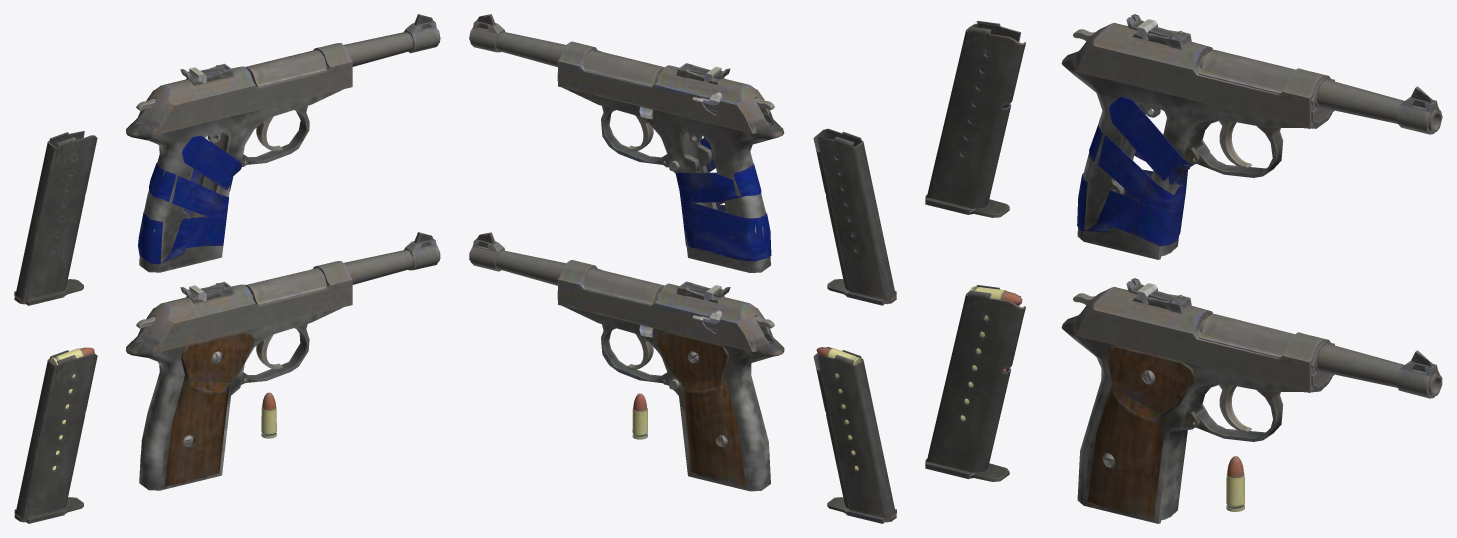
The model's file is service_pistol_lod1.glb.
3 views of the same model, side by side, from view 1: azimuth 30°, elevation 25°; view 2: azimuth 150°, elevation 25°; view 3: azimuth 330°, elevation 25° (orthographic). The views are drawn at different scales.
Parts seen in each view (by area): view 1: service_pistol_pistol_b, service_pistol_pistol_a, service_pistol_magazine_loaded, service_pistol_magazine_empty, service_pistol_slide_a, service_pistol_slide_b, service_pistol_bullet; view 2: service_pistol_pistol_b, service_pistol_pistol_a, service_pistol_magazine_loaded, service_pistol_magazine_empty, service_pistol_slide_b, service_pistol_slide_a, service_pistol_bullet; view 3: service_pistol_pistol_a, service_pistol_pistol_b, service_pistol_magazine_loaded, service_pistol_magazine_empty, service_pistol_slide_b, service_pistol_slide_a, service_pistol_bullet, service_pistol_trigger_b, service_pistol_trigger_a.
Part boxes in pixels (x1=…): service_pistol_pistol_b: x1=126, y1=14, x2=440, y2=272; service_pistol_pistol_a: x1=125, y1=232, x2=440, y2=490; service_pistol_magazine_loaded: x1=14, y1=347, x2=97, y2=523; service_pistol_magazine_empty: x1=14, y1=131, x2=97, y2=305; service_pistol_slide_a: x1=141, y1=261, x2=352, y2=352; service_pistol_slide_b: x1=141, y1=43, x2=352, y2=134; service_pistol_bullet: x1=261, y1=392, x2=276, y2=438; service_pistol_pistol_b: x1=469, y1=14, x2=784, y2=272; service_pistol_pistol_a: x1=469, y1=232, x2=784, y2=491; service_pistol_magazine_loaded: x1=813, y1=347, x2=896, y2=523; service_pistol_magazine_empty: x1=813, y1=128, x2=896, y2=305; service_pistol_slide_b: x1=558, y1=41, x2=773, y2=133; service_pistol_slide_a: x1=558, y1=260, x2=772, y2=351; service_pistol_bullet: x1=632, y1=393, x2=647, y2=439; service_pistol_pistol_a: x1=1061, y1=313, x2=1442, y2=523; service_pistol_pistol_b: x1=1061, y1=49, x2=1442, y2=259; service_pistol_magazine_loaded: x1=925, y1=285, x2=1025, y2=481; service_pistol_magazine_empty: x1=925, y1=21, x2=1025, y2=217; service_pistol_slide_b: x1=1074, y1=14, x2=1334, y2=128; service_pistol_slide_a: x1=1074, y1=278, x2=1334, y2=392; service_pistol_bullet: x1=1226, y1=456, x2=1244, y2=511; service_pistol_trigger_b: x1=1219, y1=120, x2=1251, y2=168; service_pistol_trigger_a: x1=1219, y1=384, x2=1251, y2=432.
Bounding box in the file's own units: 0.3016 × 0.2807 × 0.0318.
1 material, 1 textured.
